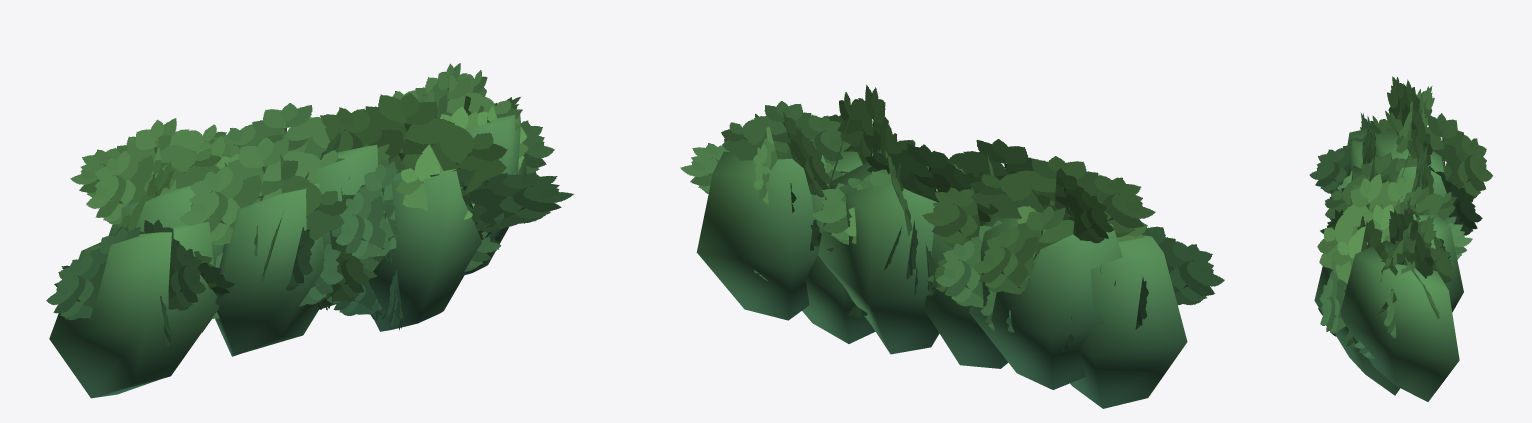
File: edge-hedge.glb
The picture shows the model from 3 angles, left to right: view 1: azimuth 30°, elevation 25°; view 2: azimuth 150°, elevation 25°; view 3: azimuth 270°, elevation 25°; orthographic projection. The views are drawn at different scales.
Parts seen in each view (by area): view 1: hedge-sprays, hedge-stems; view 2: hedge-stems, hedge-sprays; view 3: hedge-sprays, hedge-stems.
Boxes of the visible parts, x1,y1,x2,y2 form: hedge-sprays: (46, 63, 573, 347); hedge-stems: (49, 109, 526, 398); hedge-stems: (696, 133, 1187, 408); hedge-sprays: (680, 85, 1224, 352); hedge-sprays: (1309, 76, 1492, 358); hedge-stems: (1314, 128, 1463, 401).
Bounding box in the file's own units: 2.44 × 1.14 × 1.01.
Materials: 2 (1 with a texture image).
